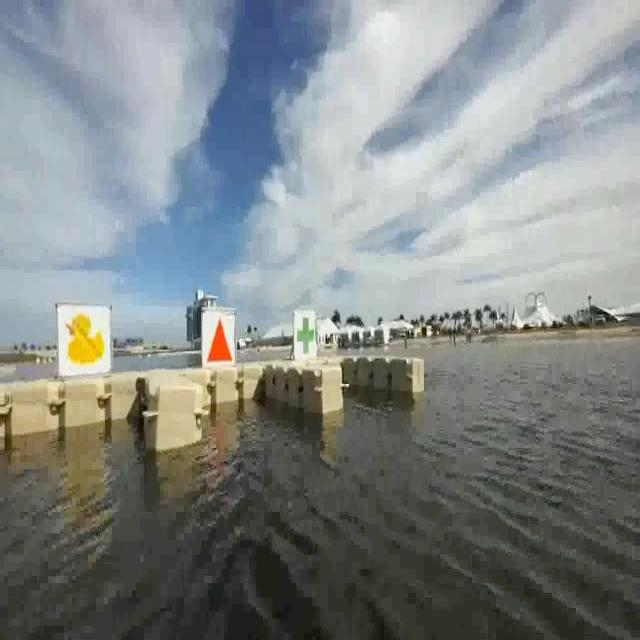blue-cross: (294, 311, 319, 361)
red-dot: (200, 306, 234, 370)
yellow-duck: (67, 311, 106, 364)
